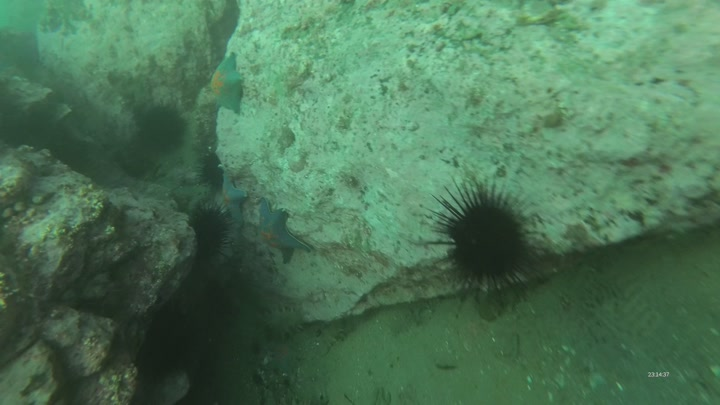echinus: (428, 175, 551, 310), (134, 101, 192, 155), (186, 201, 236, 263), (111, 144, 159, 181), (192, 148, 228, 195)
holothurian: (256, 307, 307, 344), (311, 320, 349, 360)
scallop: (152, 366, 195, 405)
starfish: (256, 196, 313, 266), (209, 53, 247, 117), (265, 347, 300, 379)
